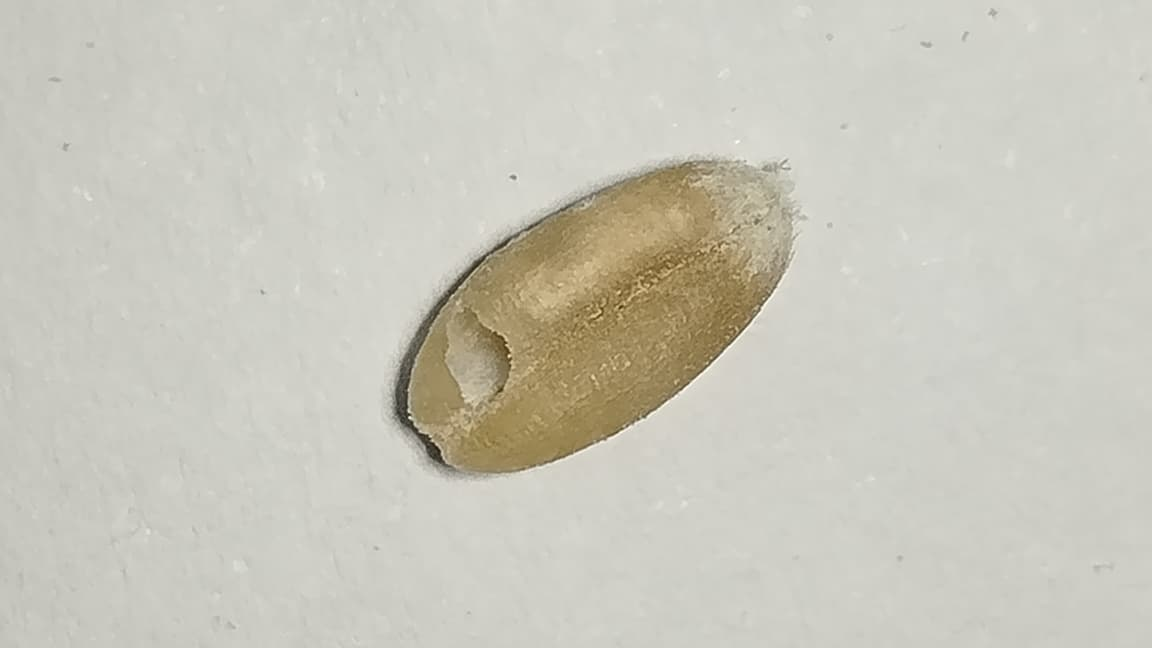damage: (408, 161, 794, 470)
insectdamage: (441, 280, 520, 414)
